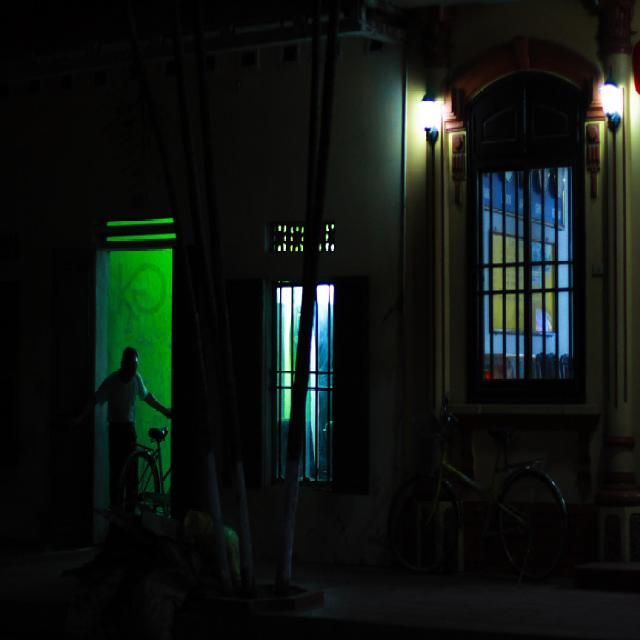Bicycle: (352, 403, 575, 601), (108, 438, 186, 507)
People: (104, 331, 158, 469)
